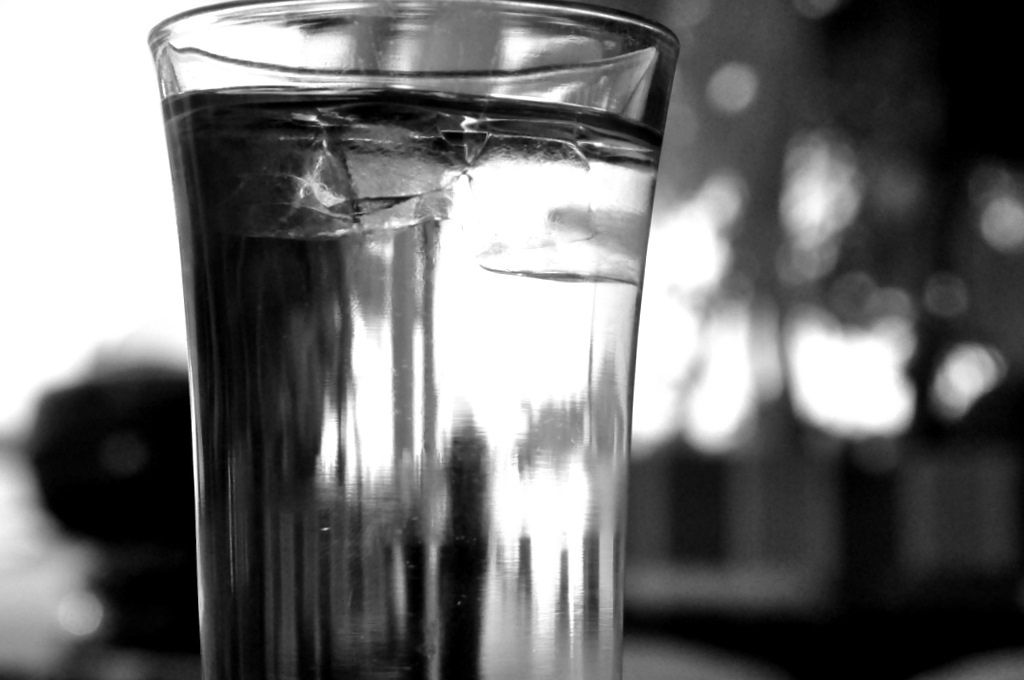glass of water: (127, 9, 687, 680)
